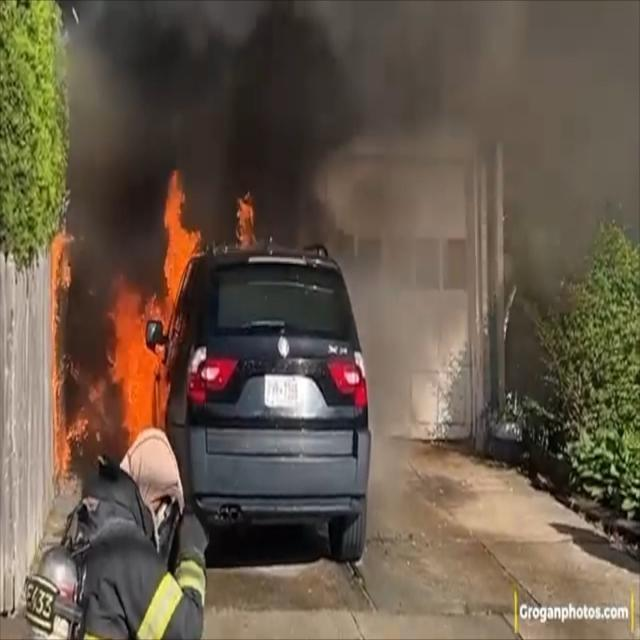fire: (48, 124, 255, 477)
